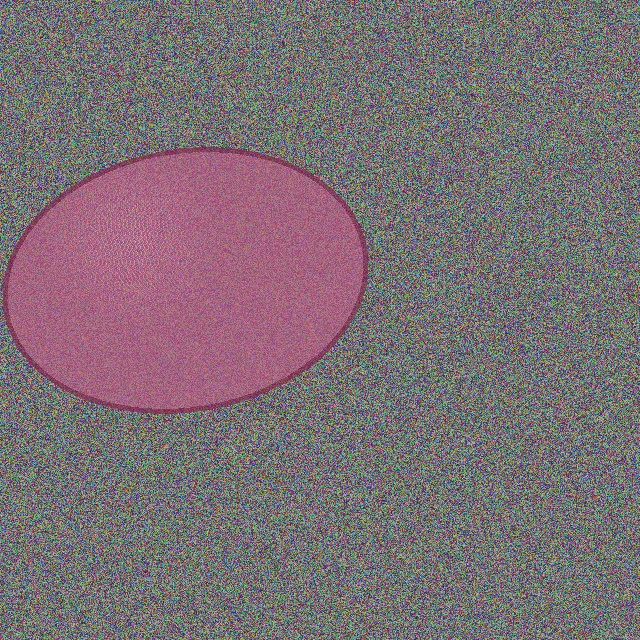lens: (6, 149, 364, 411)
